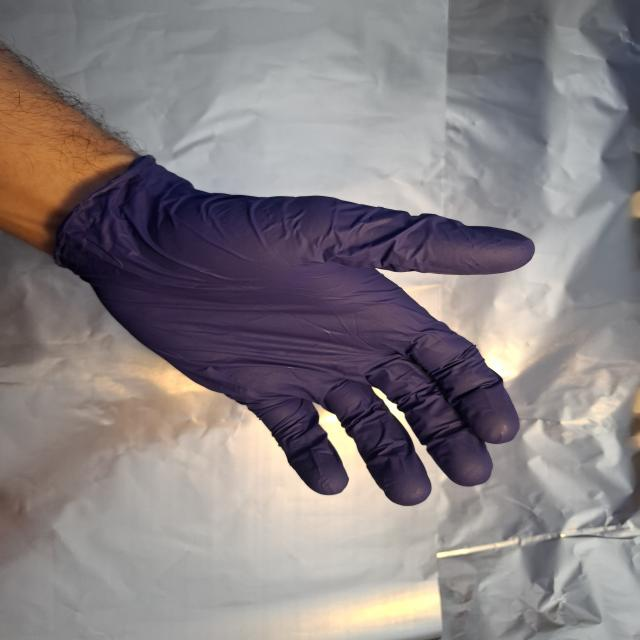glove_on: (51, 148, 538, 508)
